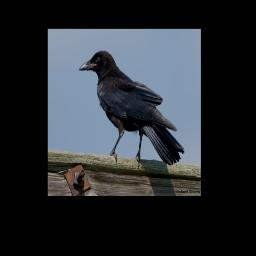Crow: (79, 50, 185, 166)
